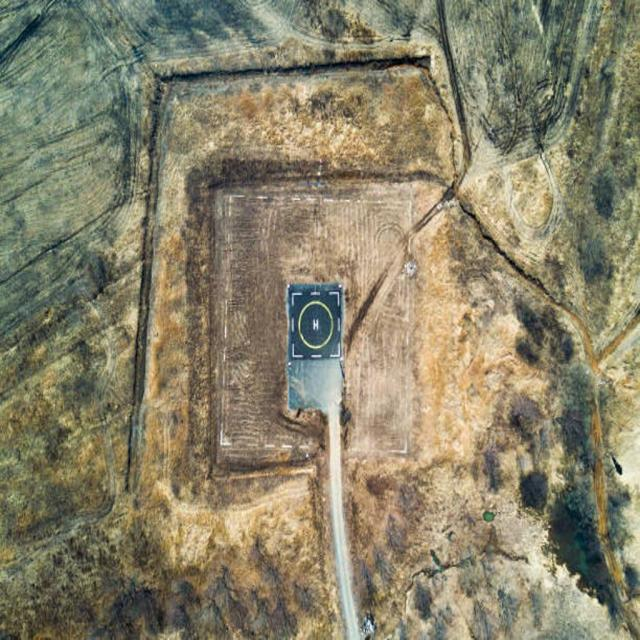helipad: (297, 301, 332, 348)
